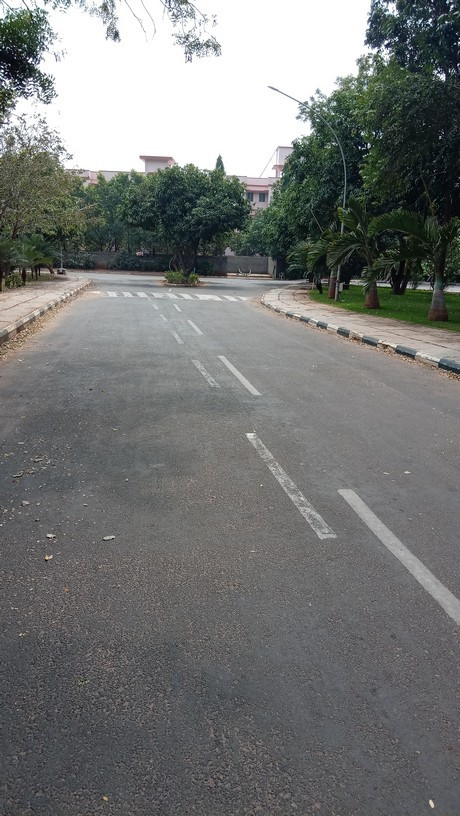bump: (81, 291, 268, 303)
